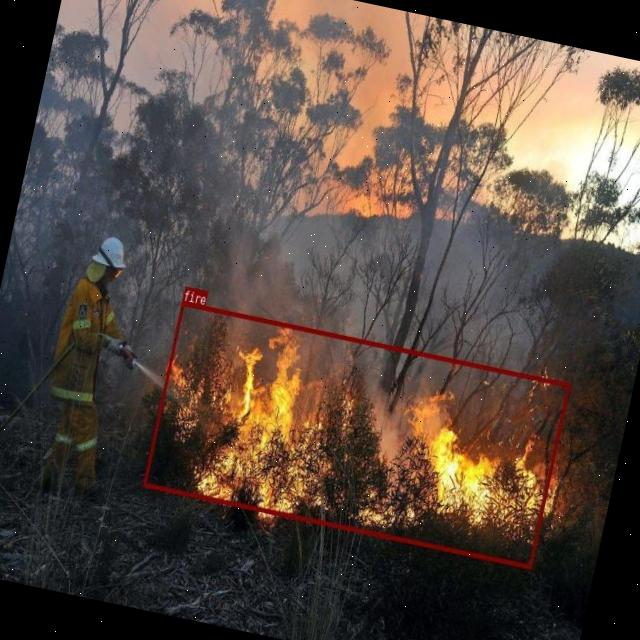fire: (142, 301, 570, 568)
